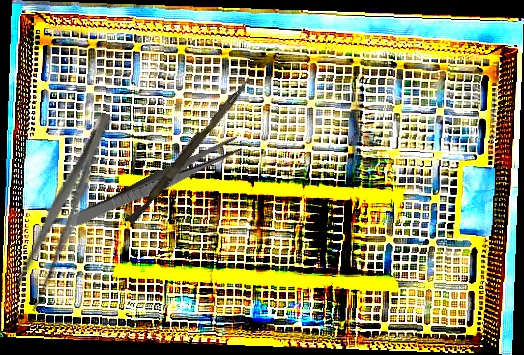Dressing Forceps: (7, 107, 123, 314), (67, 133, 244, 234)
Pusher: (126, 73, 252, 228)
